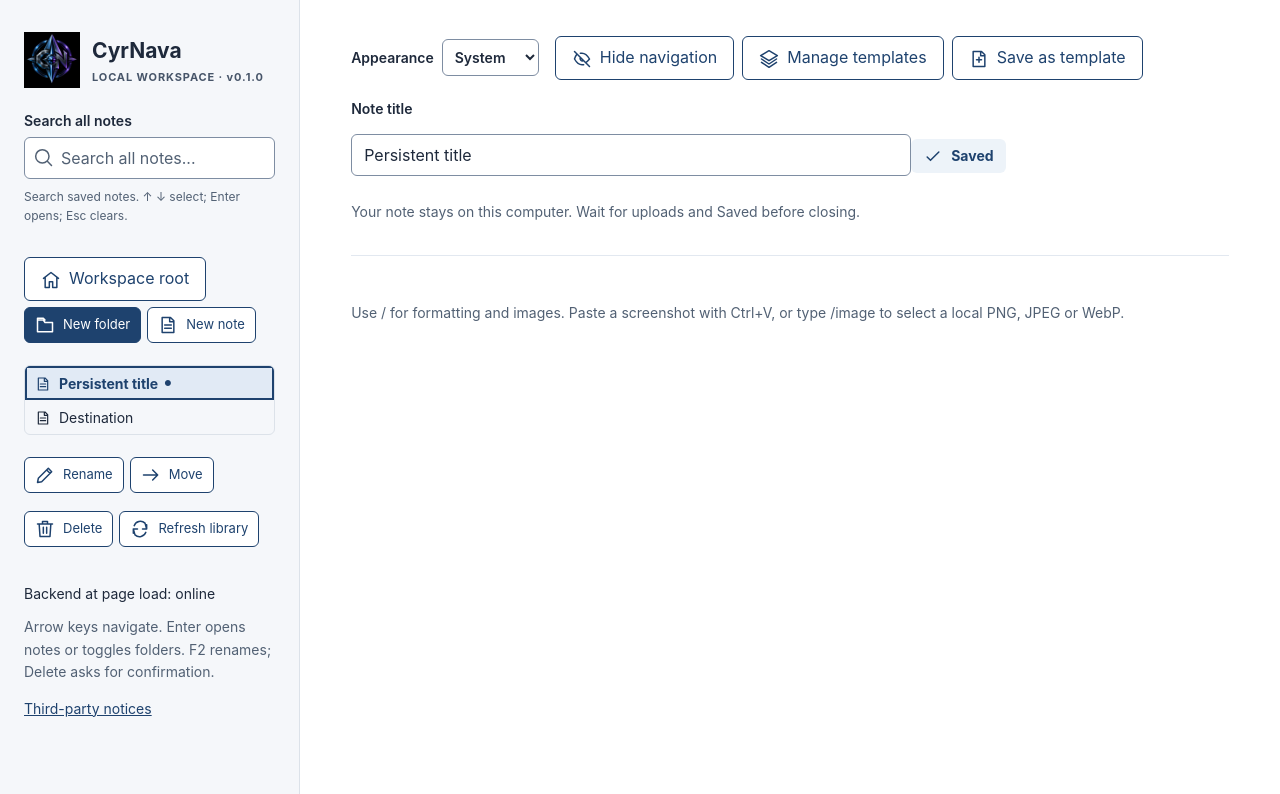
Test case: F-09 search navigation › keeps the current editor/draft when its save fails with HTTP 409
This screenshot has width=1280, height=794.
Type "matching" into the dropdown labelled "Search all notes".
click(150, 158); type("matching")  # box 24,137 -> 275,179
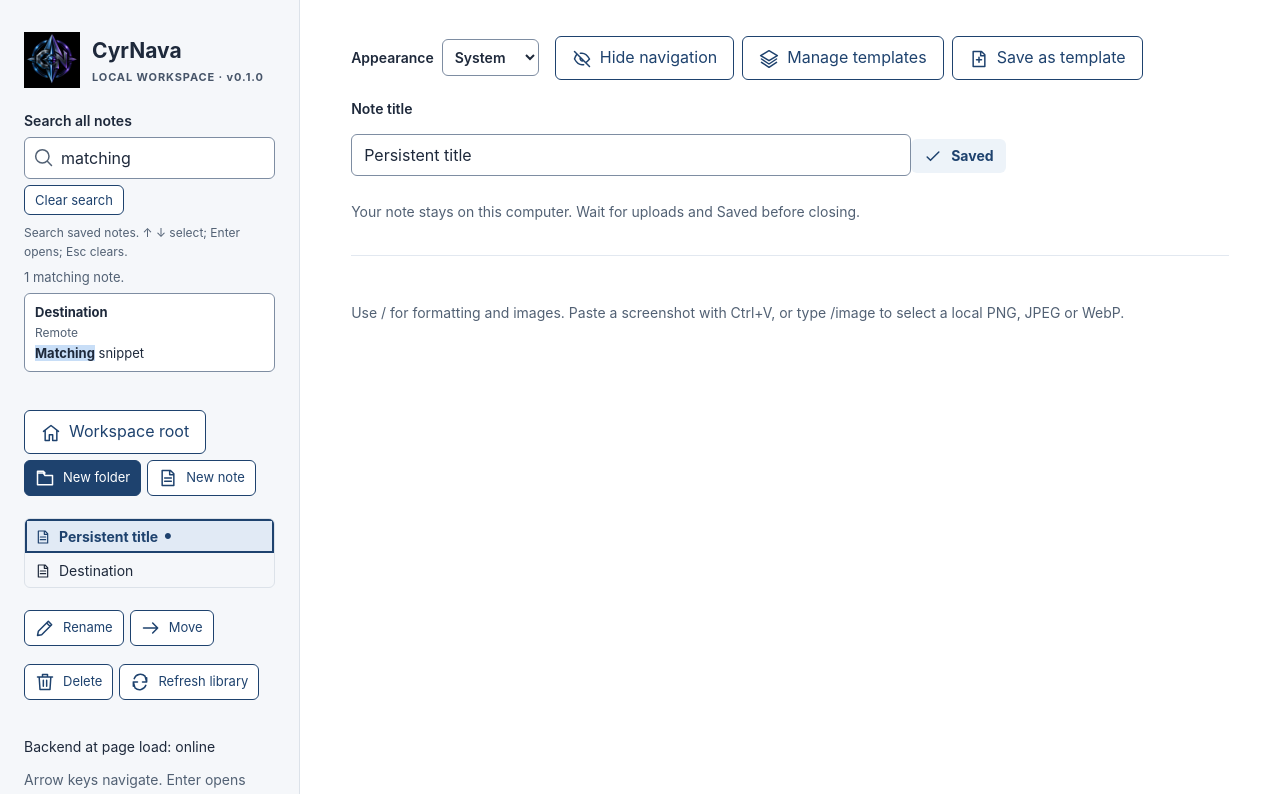
Replace the text in the field labelled "Note title" with "Keep this draft" at (631, 155), box 351,134 -> 911,176
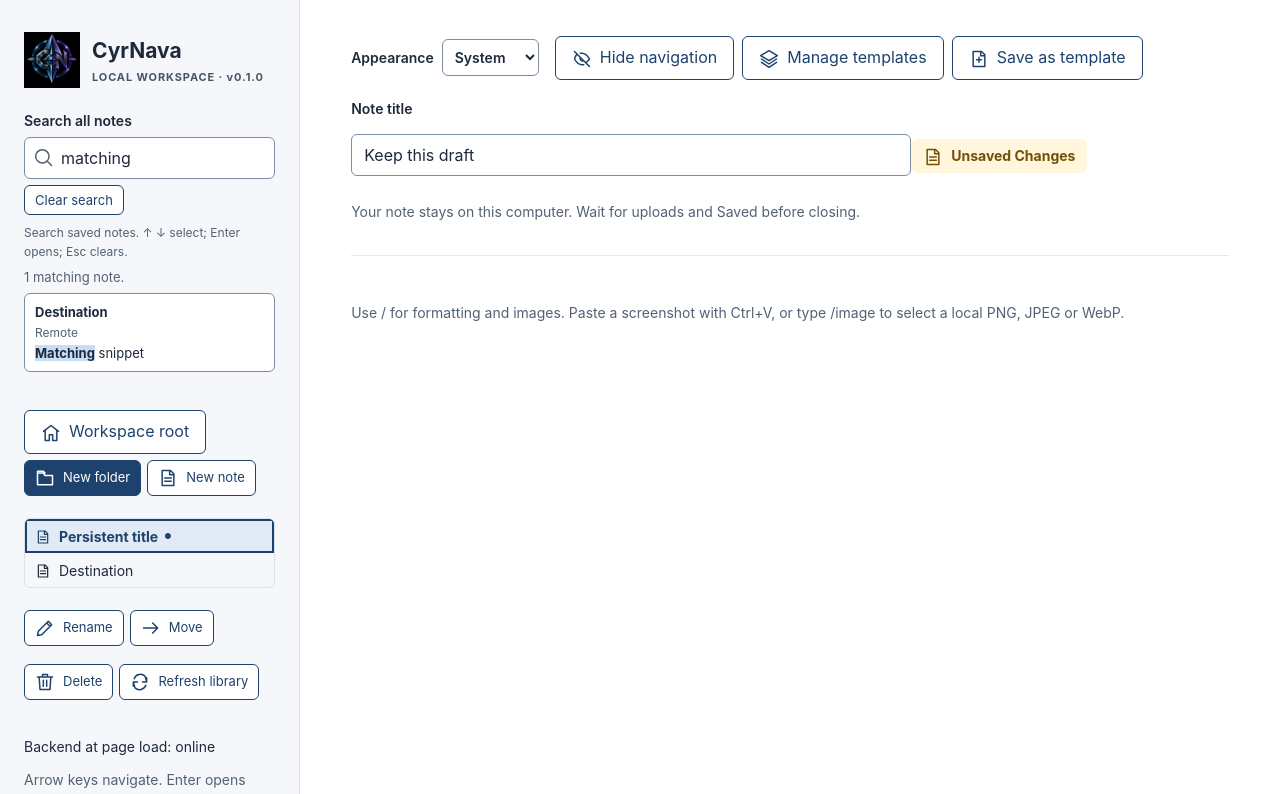
Click the option "Destination Remote Matching snippet".
click(150, 333)  # box 24,293 -> 275,372
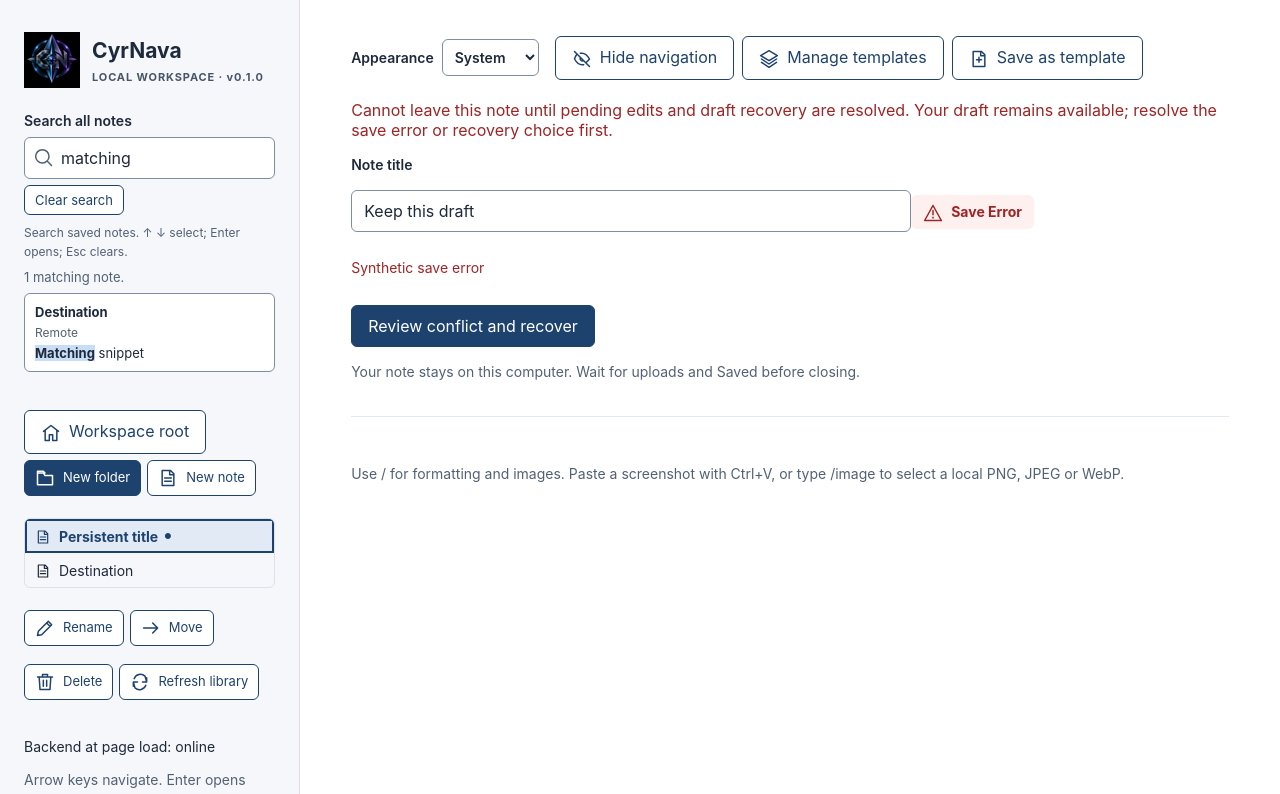
Now the text "Cannot leave this note until pending edits" is shown, box 351,100 -> 1217,140
